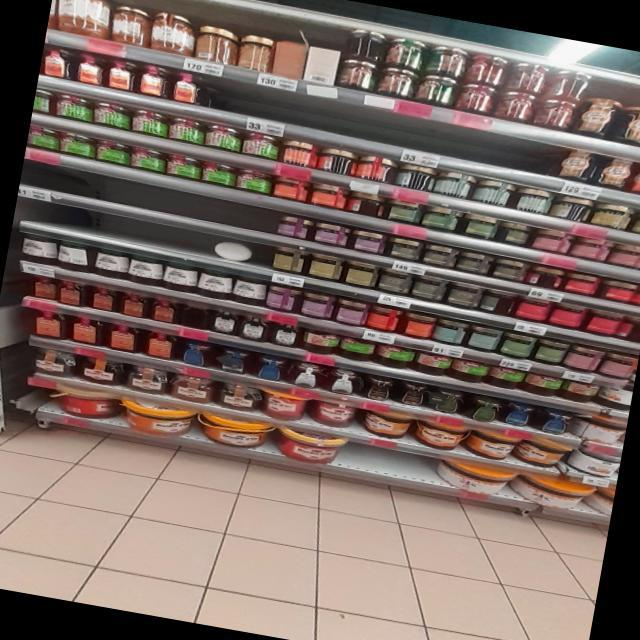produto: (350, 23, 587, 127)
vazio: (13, 149, 290, 262)
